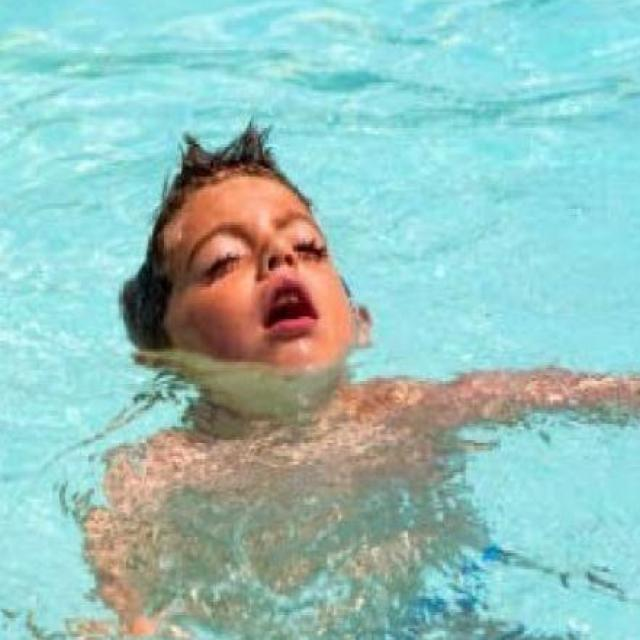Drowning: (87, 99, 608, 618)
